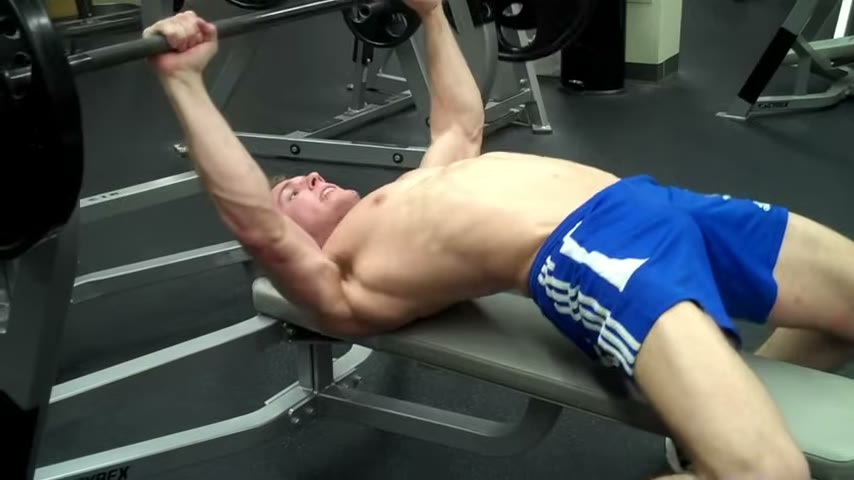barbell_plate_side: (0, 0, 90, 478)
